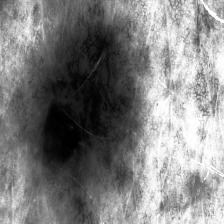Benign Marking or Mole: (45, 20, 136, 179)
